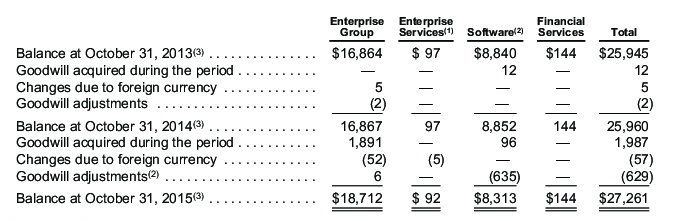table: (0, 0, 674, 221)
